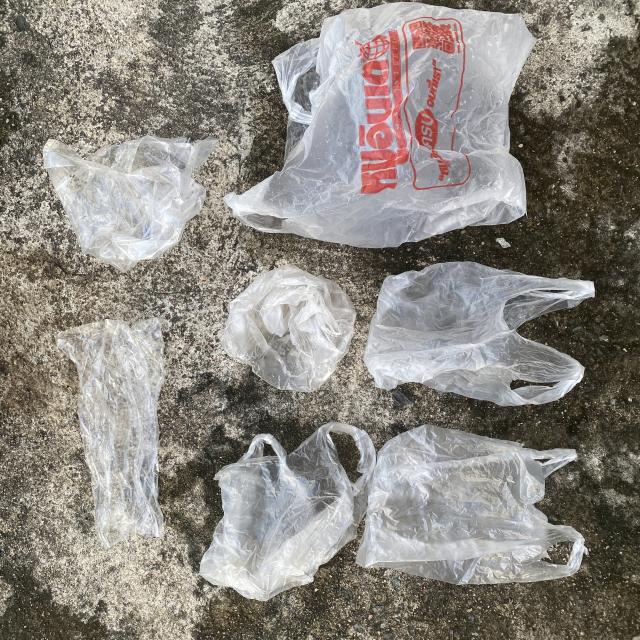Single-layer Plastic: (225, 2, 535, 248), (356, 425, 586, 585), (364, 261, 595, 406), (200, 422, 376, 601), (58, 319, 164, 548), (42, 135, 216, 272), (220, 265, 356, 391)
